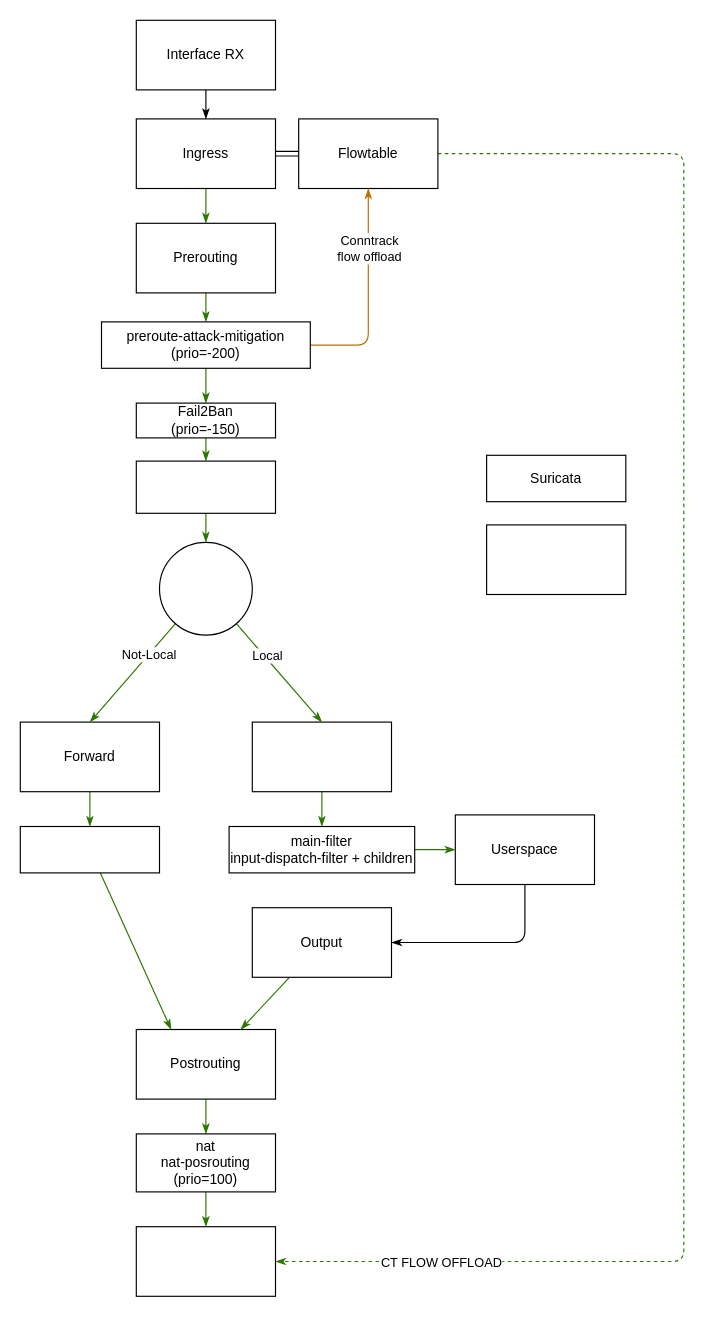
This 713x1317 diagram has some shape labels left out. The shapes that lost their labels are listed below. From the top down, each one's box as (x1, y1, x2, y2) in pixels, then its label:
(135, 460, 276, 513): nat nat-prerouting (prio=-100)
(485, 524, 626, 594): Netfilter Queue
(158, 541, 252, 635): ROUTE
(251, 721, 392, 792): Input
(19, 825, 160, 873): main-filter forward-filter
(135, 1226, 276, 1296): Interface TX
